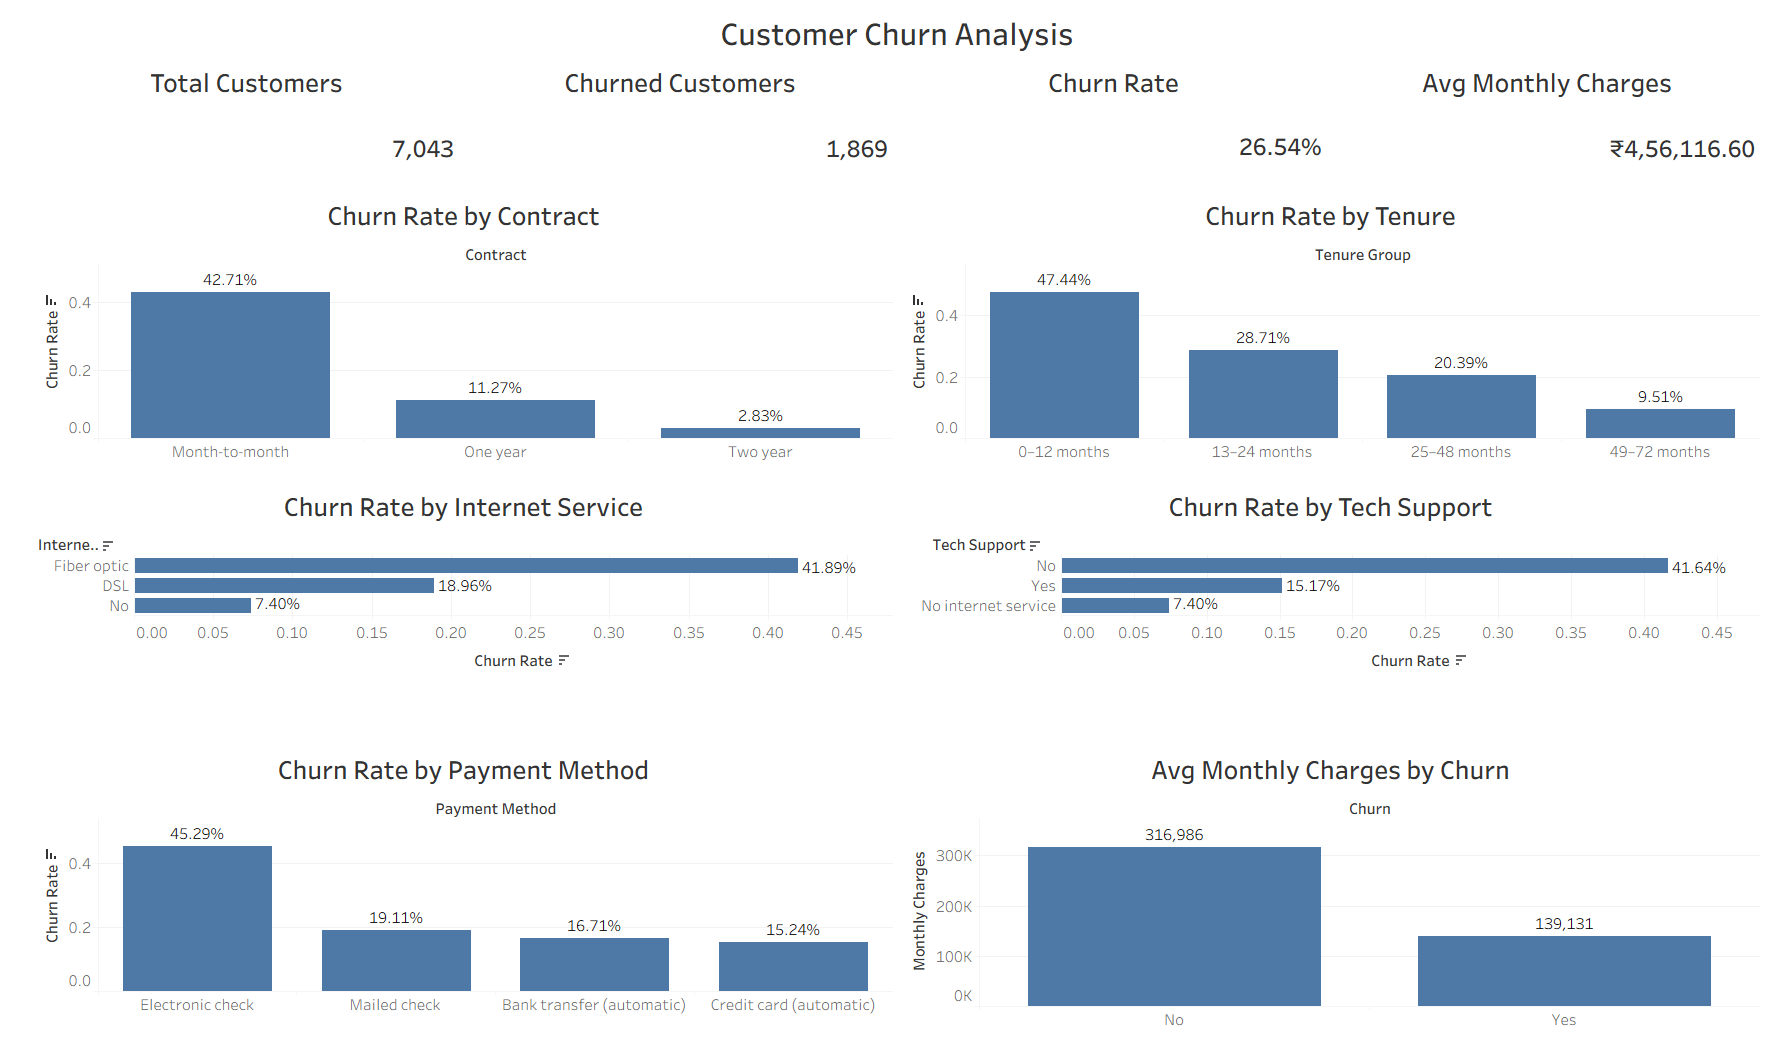

This screenshot's page, from the dashboard's own definition file:
{"tool":"tableau","page":{"name":"Customer Churn Analysis Dashboard","canvas":[1000,1000],"units":"permille","ordinal":0},"visuals":[{"type":"worksheet","title":"Total Customers","mark":"Automatic","box":[4.9,10,247.5,133]},{"type":"worksheet","title":"Churned Customers","mark":"Automatic","box":[252.4,10,247.6,133]},{"type":"worksheet","title":"Churn Rate","mark":"Automatic","box":[500,10,247.5,133]},{"type":"worksheet","title":"Avg Monthly Charges","mark":"Automatic","box":[747.5,10,247.6,133]},{"type":"worksheet","title":"Churn Rate by Contract","mark":"Bar","rows":["Calculation_1102843901190146"],"cols":["Contract"],"box":[4.9,143,495.1,292.3]},{"type":"worksheet","title":"Churn Rate by Tenure","mark":"Bar","rows":["Calculation_1102843901190146"],"cols":["TenureGroup"],"box":[500,143,495.1,292.3]},{"type":"worksheet","title":"Churn Rate by Internet Service","mark":"Bar","rows":["InternetService"],"cols":["Calculation_1102843901190146"],"box":[4.9,435.4,495.1,263.5]},{"type":"worksheet","title":"Churn Rate by Tech Support","mark":"Bar","rows":["TechSupport"],"cols":["Calculation_1102843901190146"],"box":[500,435.4,495.1,263.5]},{"type":"worksheet","title":"Churn Rate by Payment Method","mark":"Bar","rows":["Calculation_1102843901190146"],"cols":["PaymentMethod"],"box":[4.9,698.9,495.1,291.1]},{"type":"worksheet","title":"Avg Monthly Charges by Churn","mark":"Bar","rows":["MonthlyCharges"],"cols":["Churn"],"box":[500,698.9,495.1,291.1]}]}

Visuals, with their boxes on the dashboard's canvas, which has no fixed pixel size, in thousandths of its width and height (x1, y1, x2, y2). These are canvas units, not pixel positions in the 1772x1039 screenshot, which may show the page scaled, cropped or inside an application window:
"Total Customers" worksheet: locate(5, 10, 252, 143)
"Churned Customers" worksheet: locate(252, 10, 500, 143)
"Churn Rate" worksheet: locate(500, 10, 748, 143)
"Avg Monthly Charges" worksheet: locate(748, 10, 995, 143)
"Churn Rate by Contract" worksheet (Bar marks): locate(5, 143, 500, 435)
"Churn Rate by Tenure" worksheet (Bar marks): locate(500, 143, 995, 435)
"Churn Rate by Internet Service" worksheet (Bar marks): locate(5, 435, 500, 699)
"Churn Rate by Tech Support" worksheet (Bar marks): locate(500, 435, 995, 699)
"Churn Rate by Payment Method" worksheet (Bar marks): locate(5, 699, 500, 990)
"Avg Monthly Charges by Churn" worksheet (Bar marks): locate(500, 699, 995, 990)
